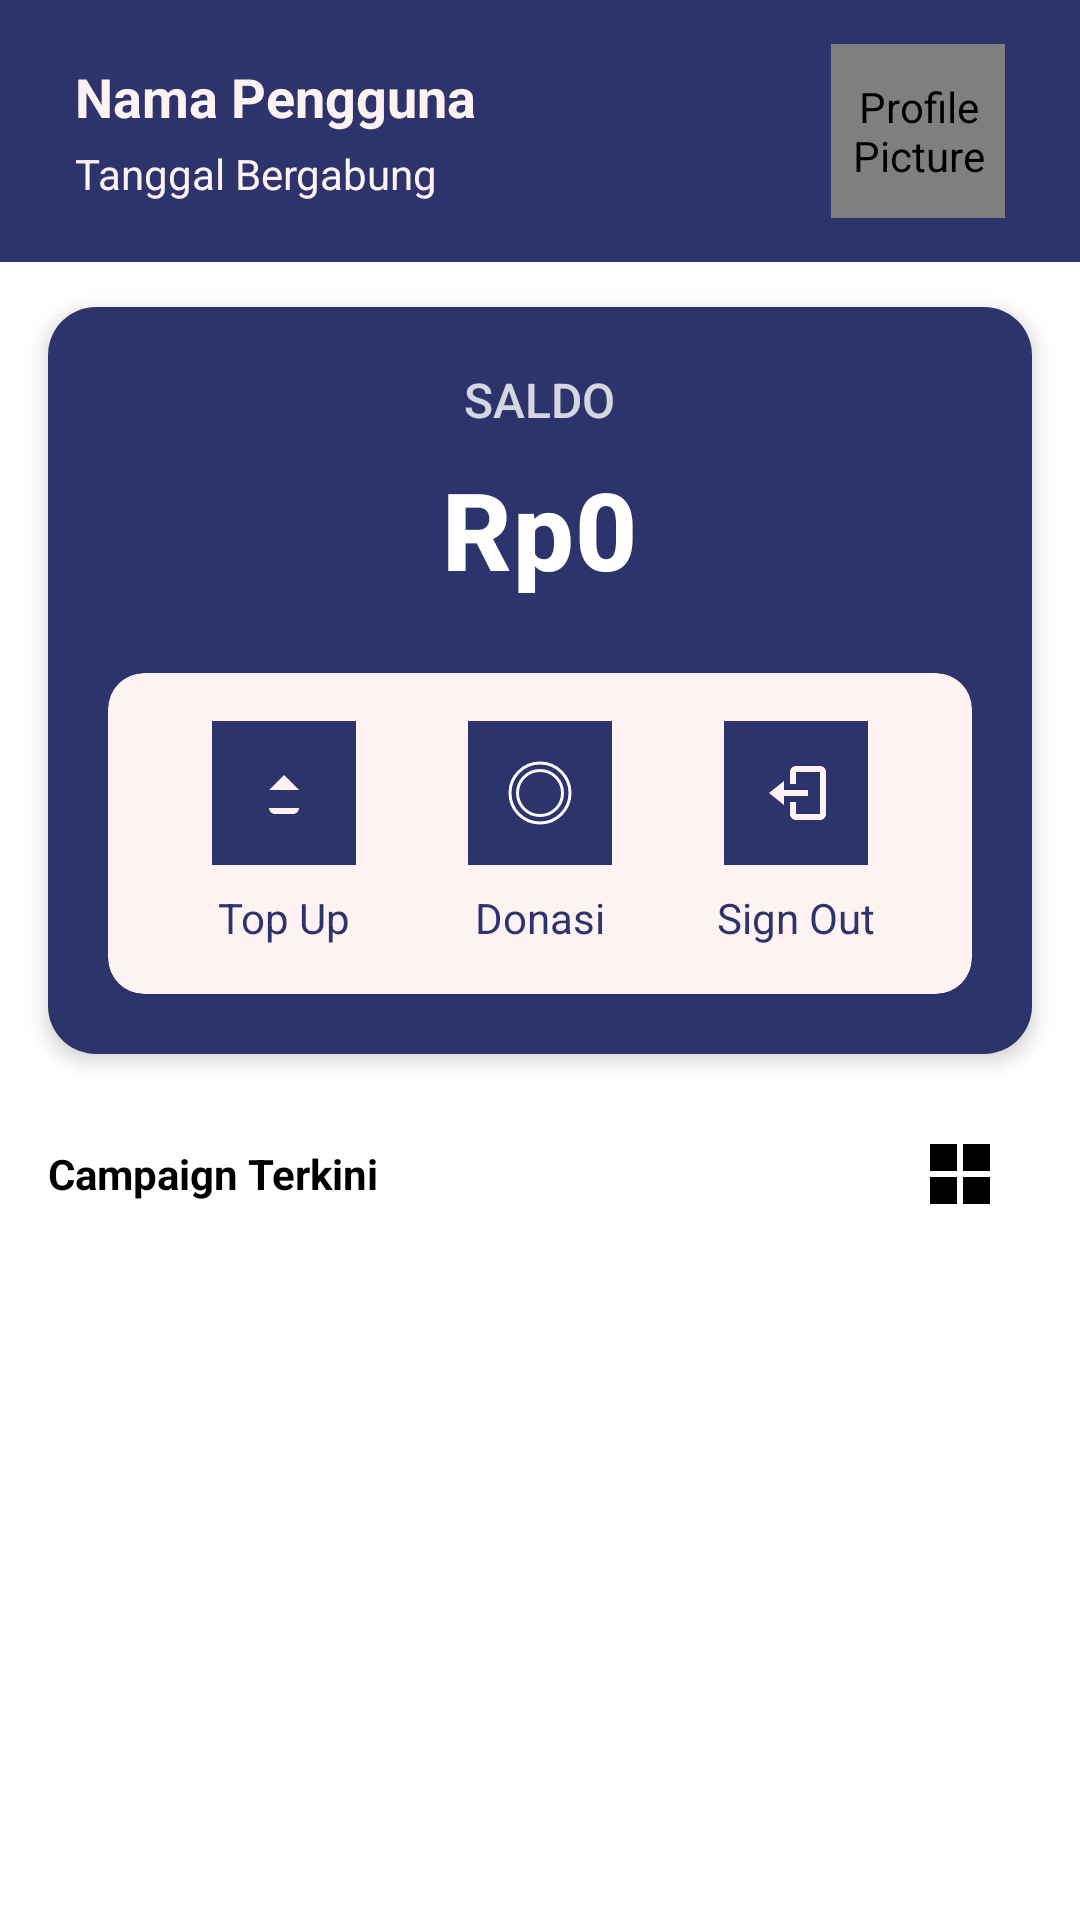

Where icons sit on this 1080 × 1920 app screen, as [left=x1, top=y1, right=x2, bottom=y2]:
Lihat semua campaign: [left=930, top=1144, right=990, bottom=1204]
